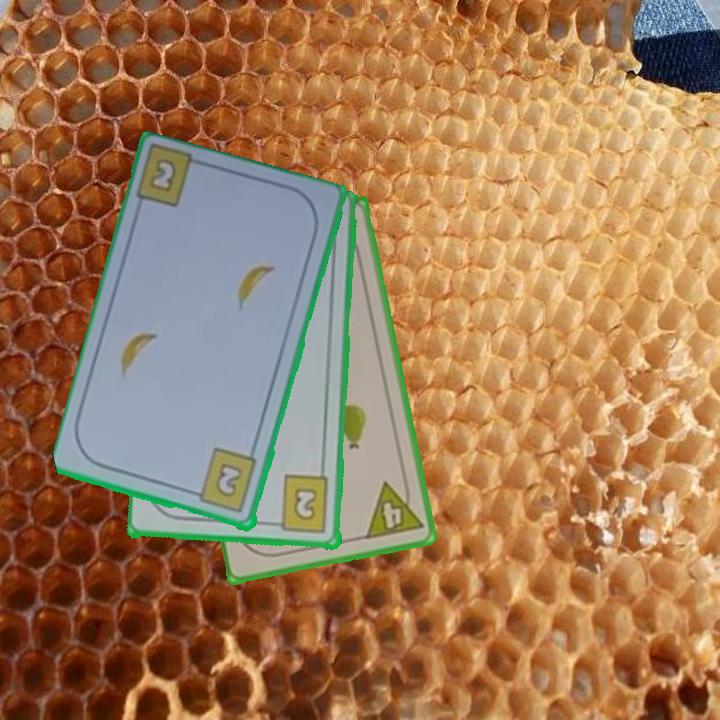2b: (187, 446, 260, 516), (268, 473, 332, 536), (149, 158, 177, 193)
4p: (361, 475, 426, 542)
